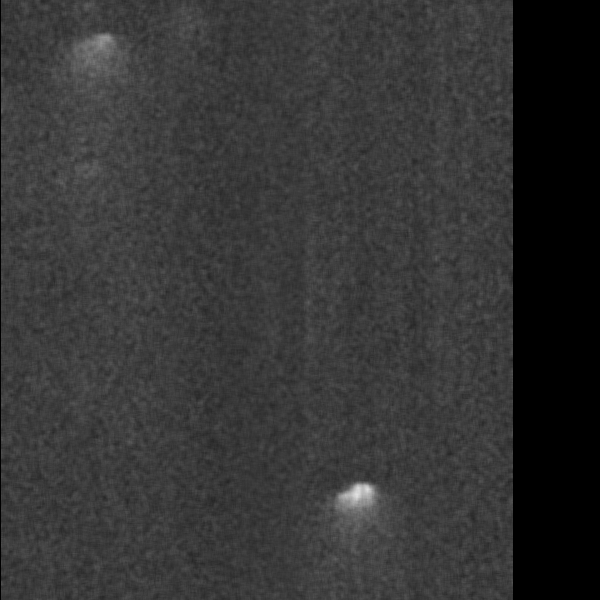spark: (183, 375, 231, 408), (202, 525, 228, 561), (190, 584, 221, 600)
